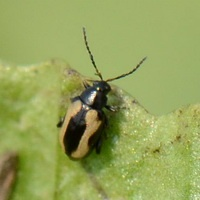insect: (57, 27, 145, 158)
